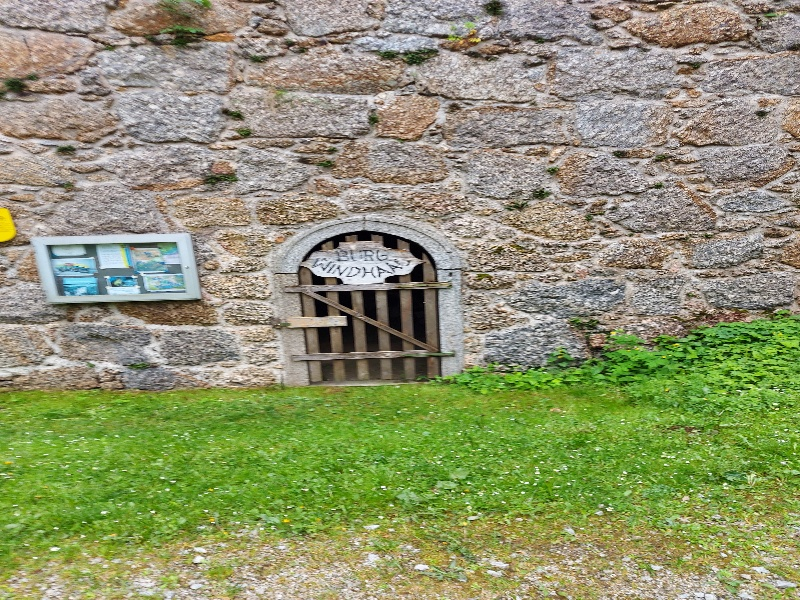dungeon: (247, 200, 475, 404)
